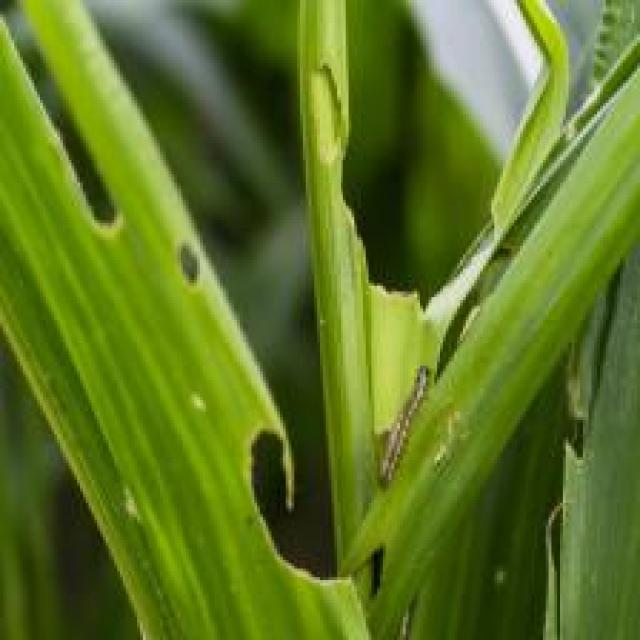Plaga: (381, 358, 435, 507)
